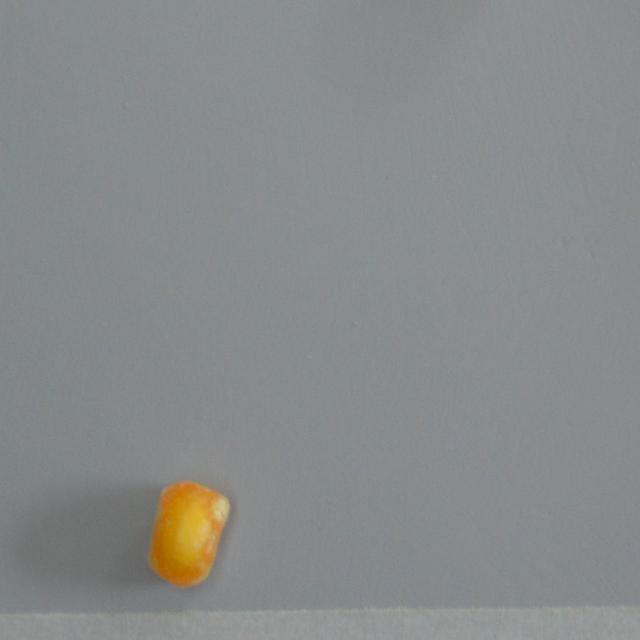pelicula: (144, 480, 228, 588)
